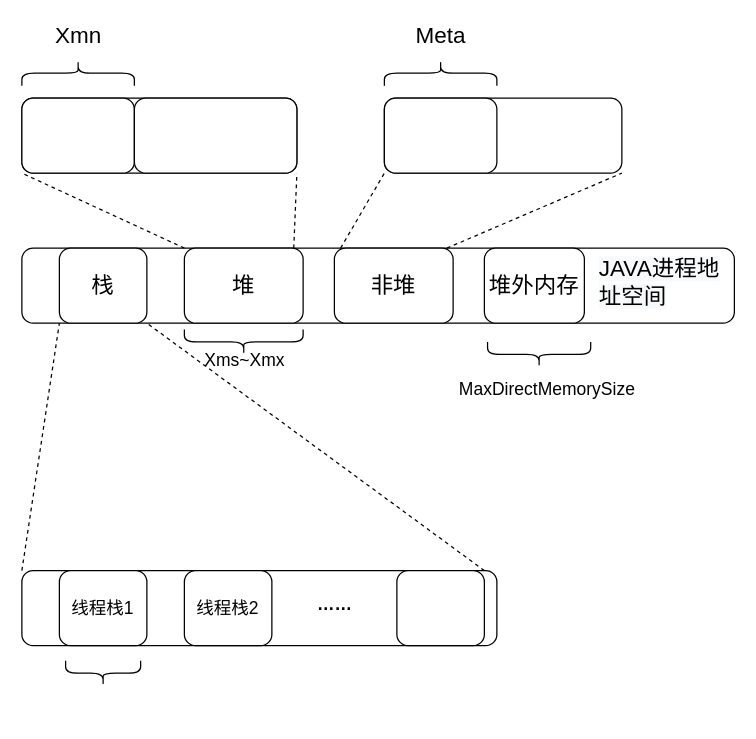
The diagram is 756 pixels wide and 739 high, and some of its shapes have lost their labels. The shapes that lost their labels are listed below. From the top down, each one's centre as x and y in pixels, then its label:
(77,135): 年轻代
(215,135): 老年代
(440,135): Metaspace
(440,607): 线程栈N
(102,672): Xss
